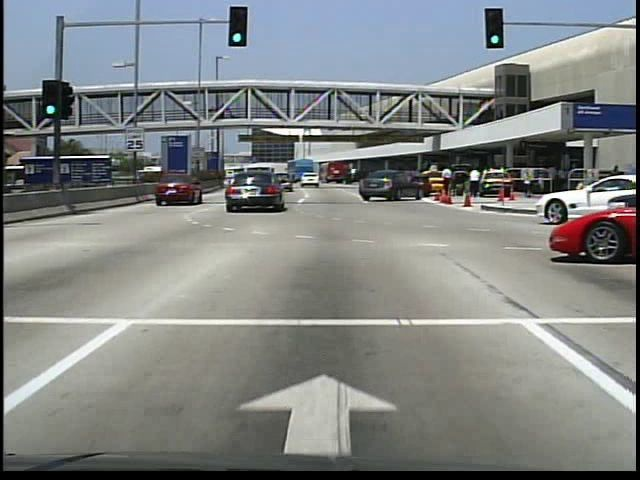person: (440, 167, 457, 204), (465, 170, 481, 202), (519, 169, 535, 201), (217, 103, 227, 123)
